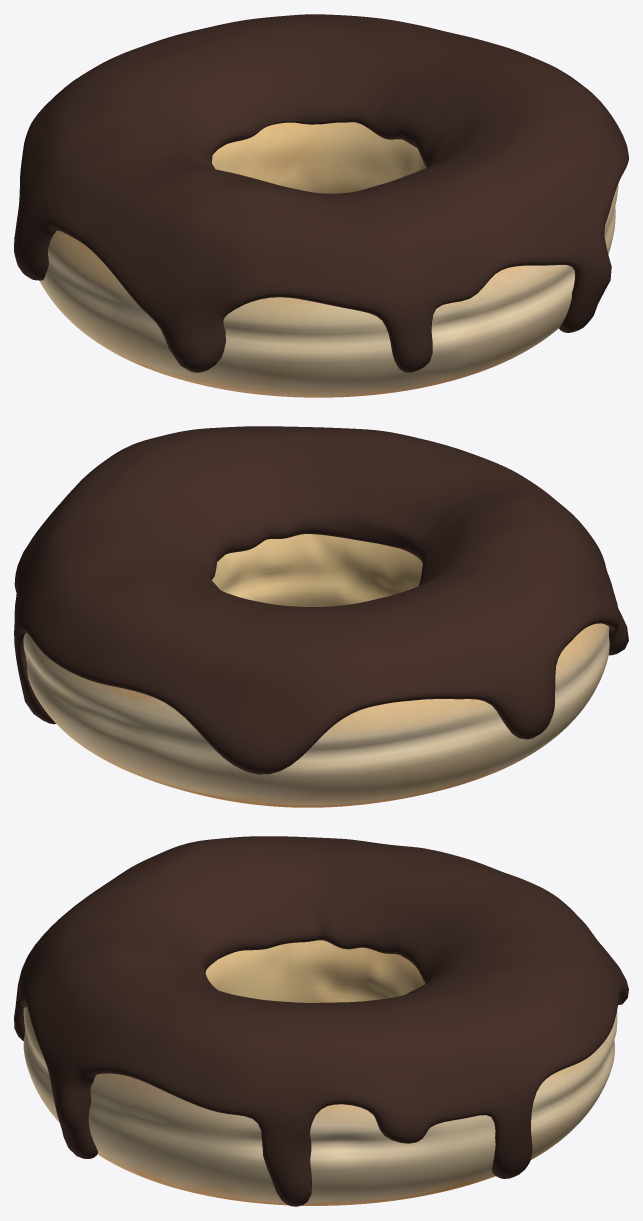
File: donut.glb
The picture shows the model from 3 angles, top to bottom: view 1: azimuth 30°, elevation 25°; view 2: azimuth 150°, elevation 25°; view 3: azimuth 270°, elevation 25°; orthographic projection.
Visible parts, largest first — view 1: icing, donut; view 2: icing, donut; view 3: icing, donut.
Boxes of the visible parts, <box> form: icing: <box>14,14,628,372</box>; donut: <box>39,122,618,397</box>; icing: <box>14,426,628,774</box>; donut: <box>23,534,609,807</box>; icing: <box>14,836,628,1206</box>; donut: <box>23,940,617,1205</box>.
Size of the model in its own units: 5.31 by 1.89 by 5.4.
Materials: 2 (1 with a texture image).
